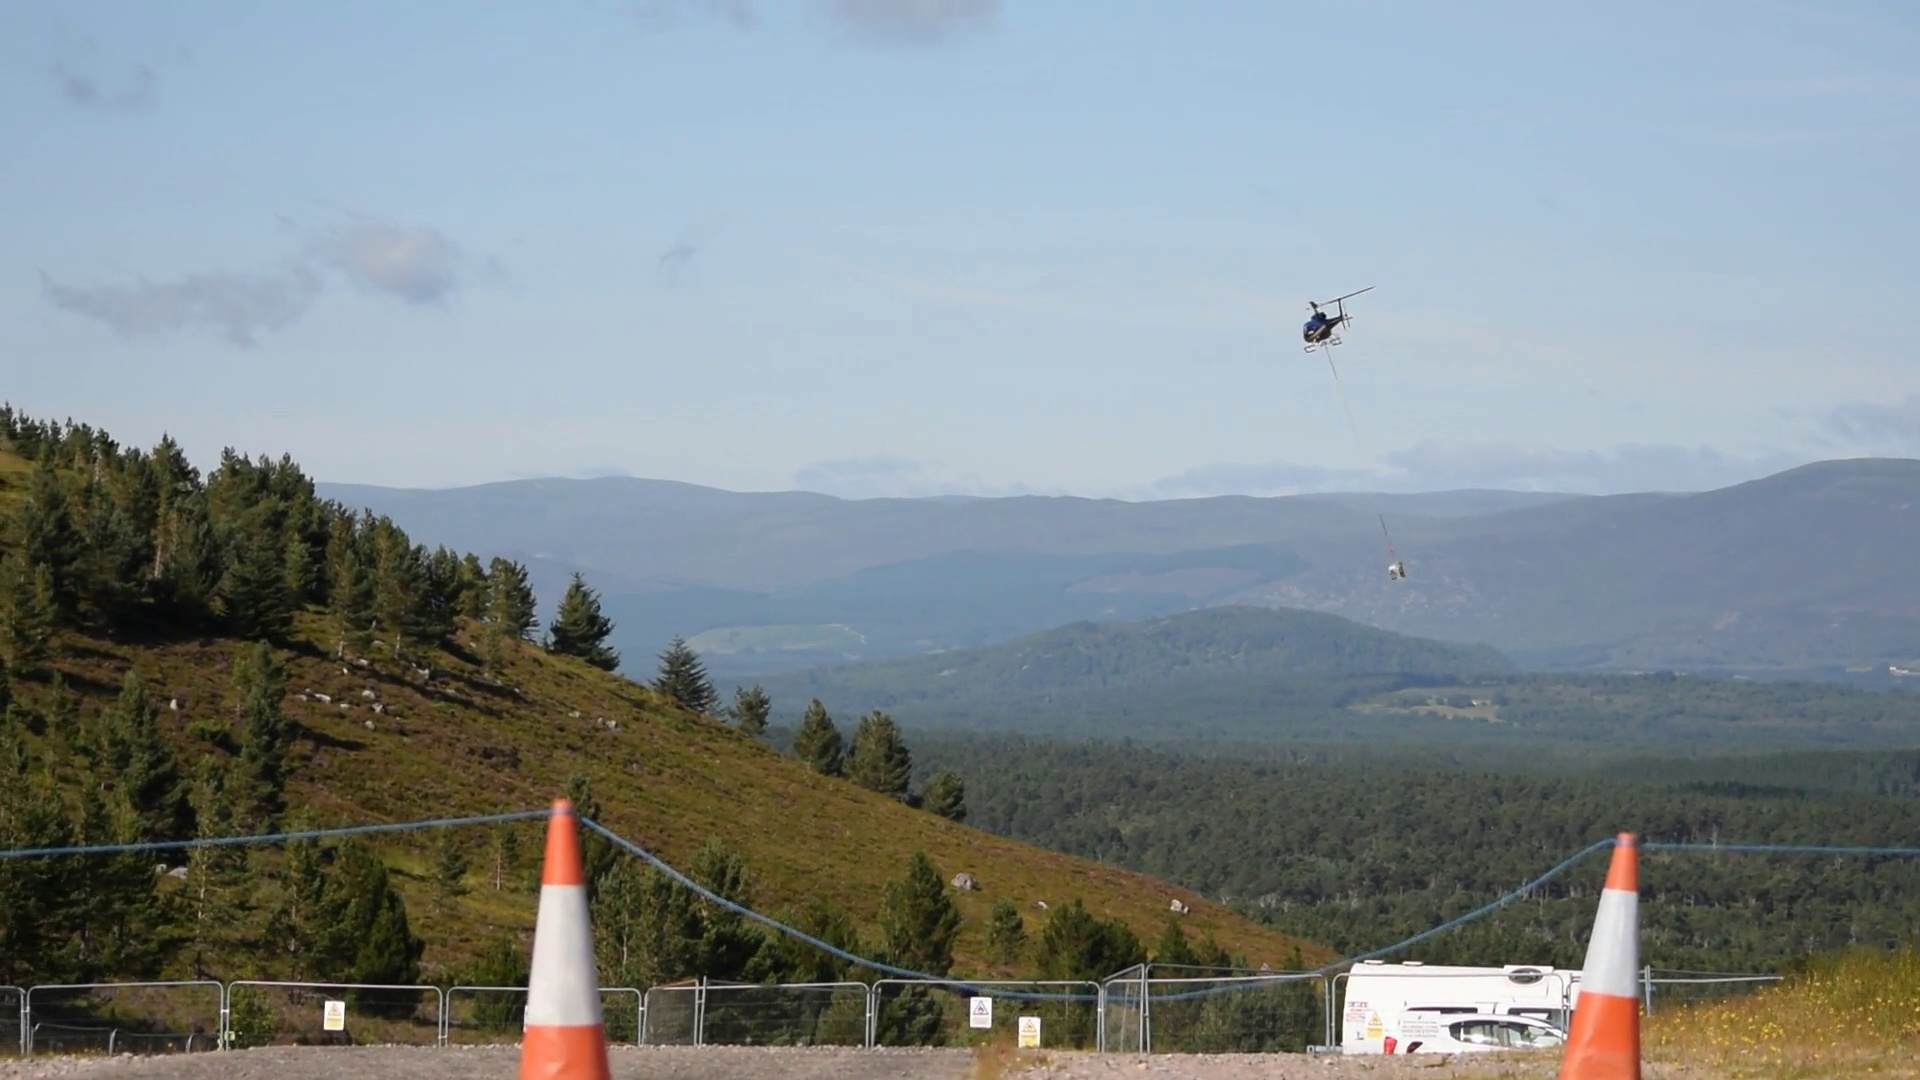heli: (1291, 285, 1375, 353)
